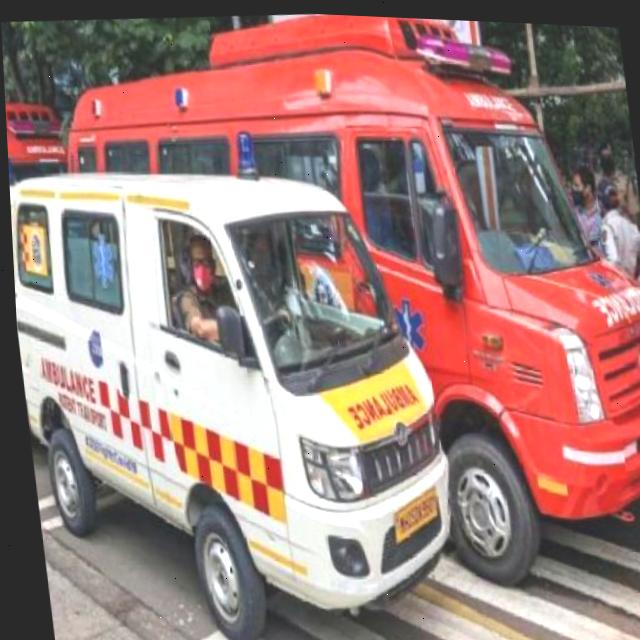emergency: (48, 2, 640, 608), (6, 144, 457, 640)
